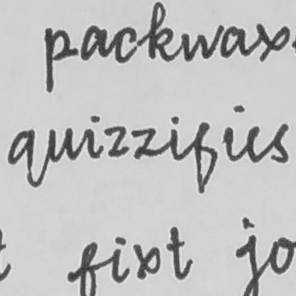e: (245, 123, 265, 166)
f: (188, 118, 220, 197)
i: (221, 102, 244, 165), (80, 114, 102, 162), (164, 113, 183, 163)
q: (4, 126, 39, 189)
s: (268, 121, 291, 167)
u: (44, 124, 77, 164)
z: (130, 125, 159, 161), (102, 122, 129, 160)
